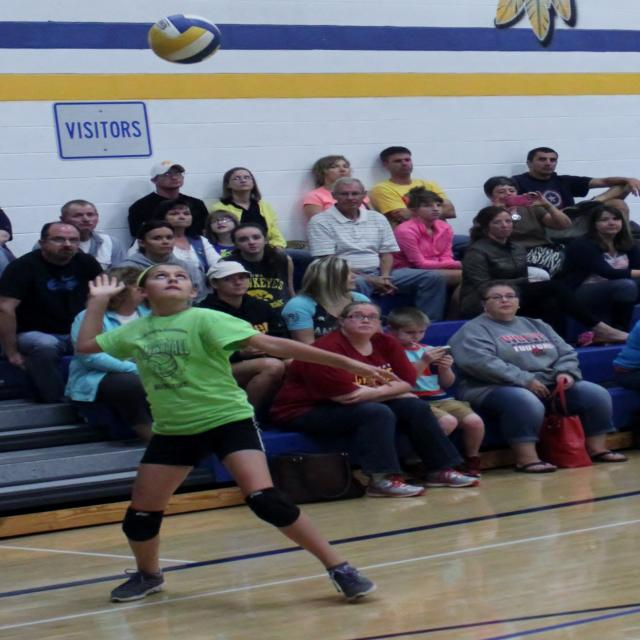body: (72, 260, 404, 605), (279, 300, 480, 500), (440, 278, 630, 476), (459, 204, 638, 348), (303, 175, 448, 325), (0, 220, 114, 405), (380, 305, 486, 482), (64, 266, 158, 448), (196, 261, 296, 414), (208, 167, 314, 277), (369, 145, 474, 251), (126, 202, 224, 313), (563, 204, 639, 346), (391, 185, 466, 315), (280, 255, 384, 348), (509, 147, 640, 210), (115, 221, 209, 307), (216, 222, 296, 313), (31, 198, 129, 272), (482, 176, 574, 252), (127, 160, 211, 239), (301, 154, 376, 222), (203, 210, 242, 259), (0, 205, 16, 269)
